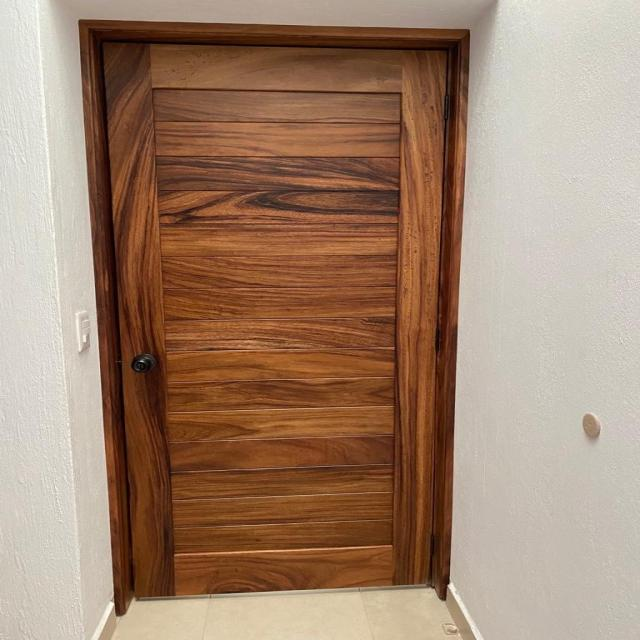door: (82, 20, 466, 602)
